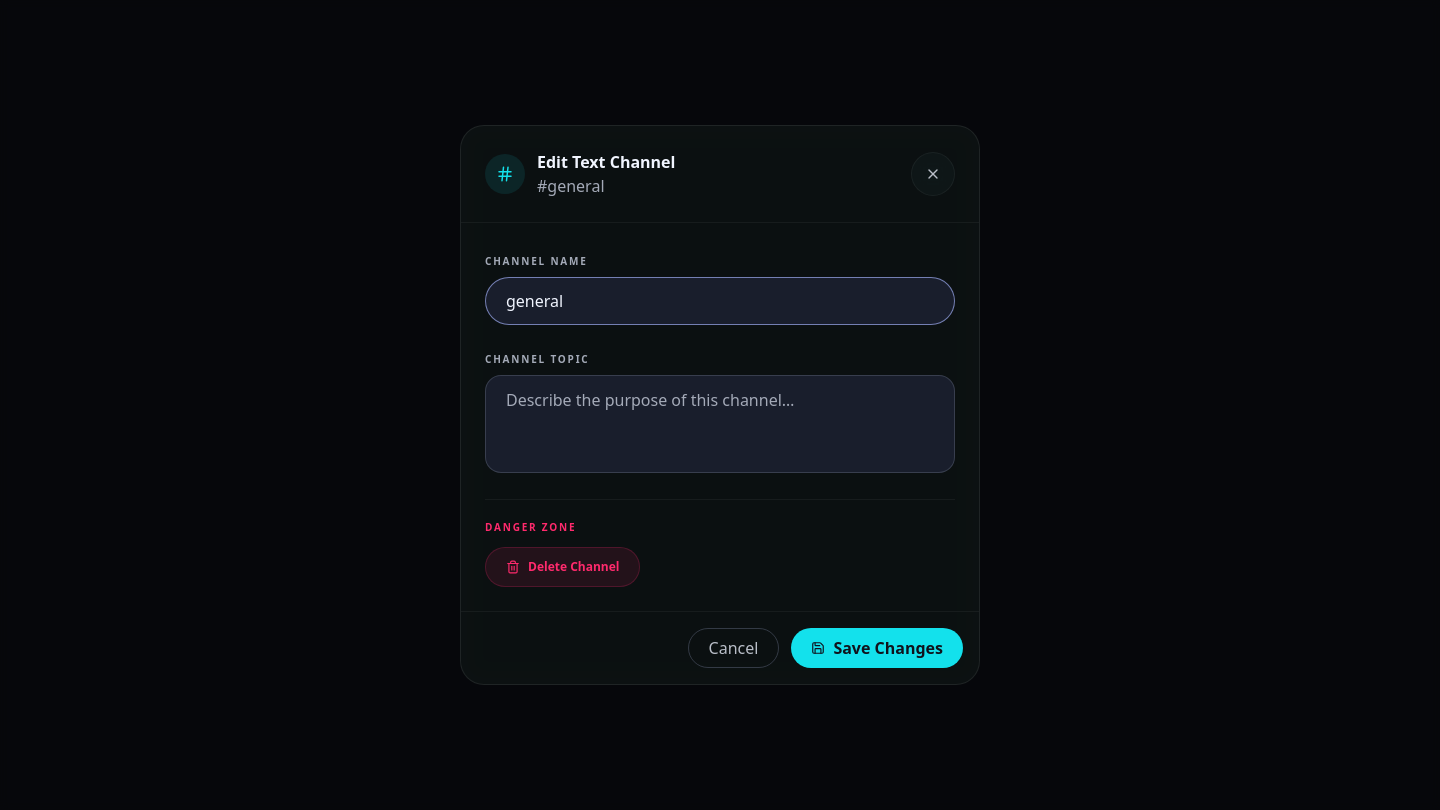
Test: ChannelSettingsModal › tells the user when the channel name will be normalized
Replace the text in the field labelled "CHANNEL NAME" with "My Cool Channel" at (720, 301), box top-left (485, 277), bottom-right (955, 325)
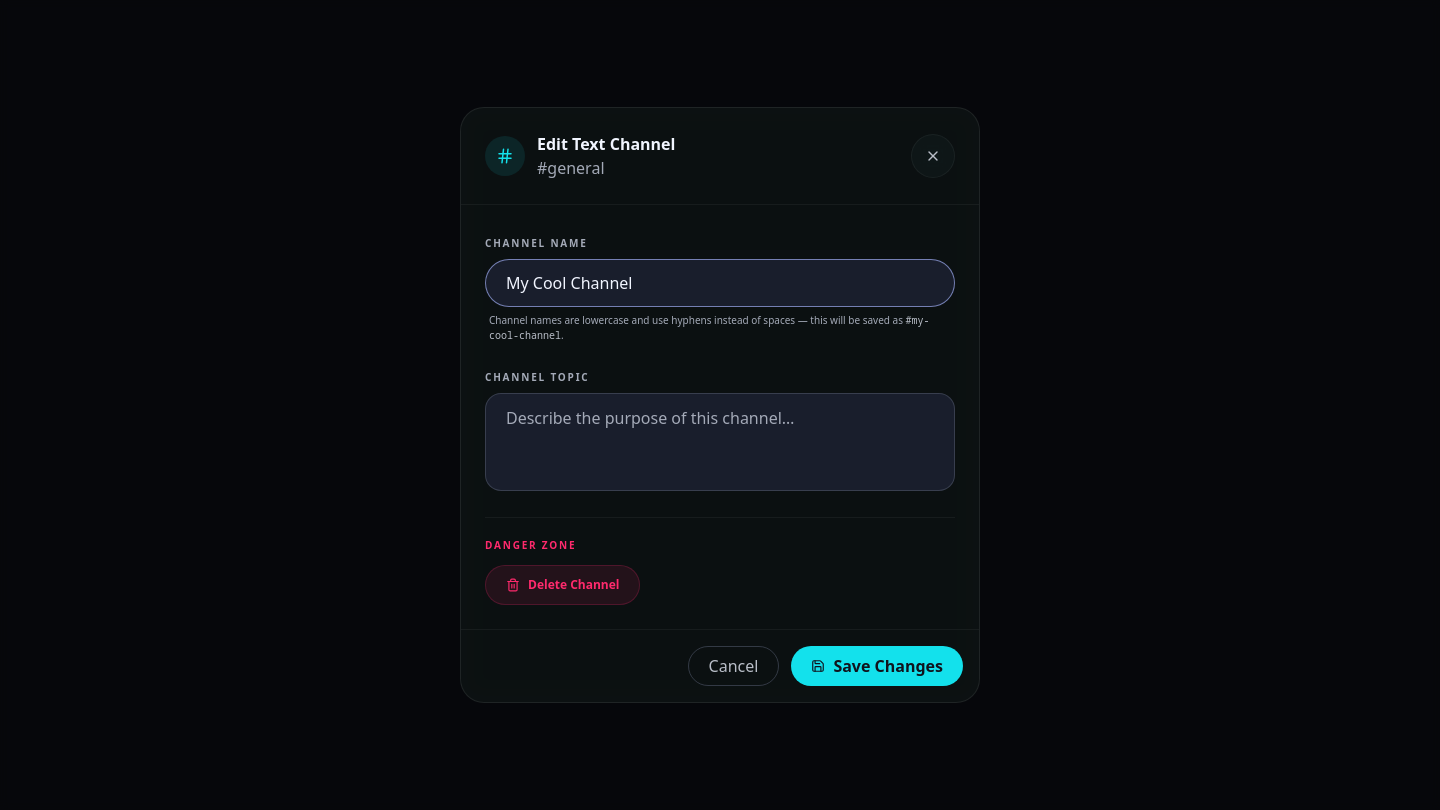
Result: the text "will be saved as" is shown at top-left (489, 313), bottom-right (903, 327)
Result: the text "#my-cool-channel" is shown at top-left (485, 313), bottom-right (955, 343)
